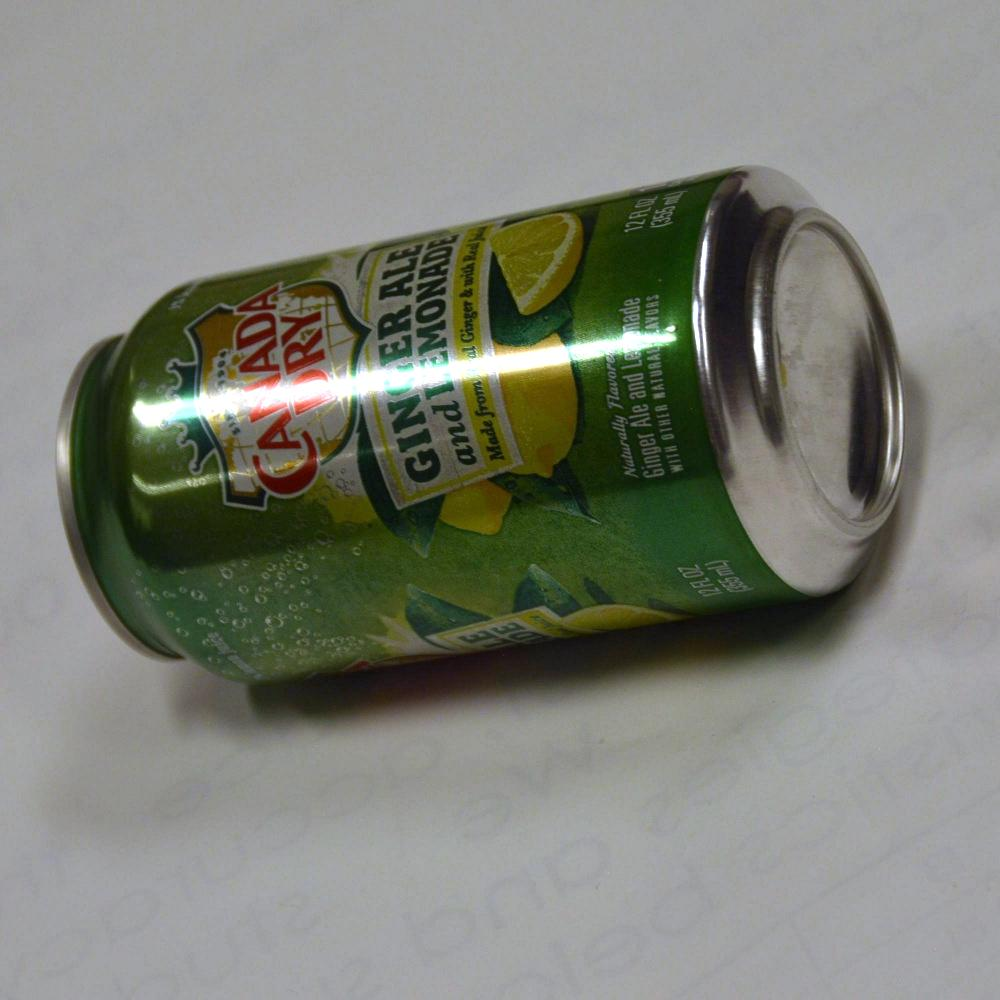Metal: (30, 192, 871, 677)
